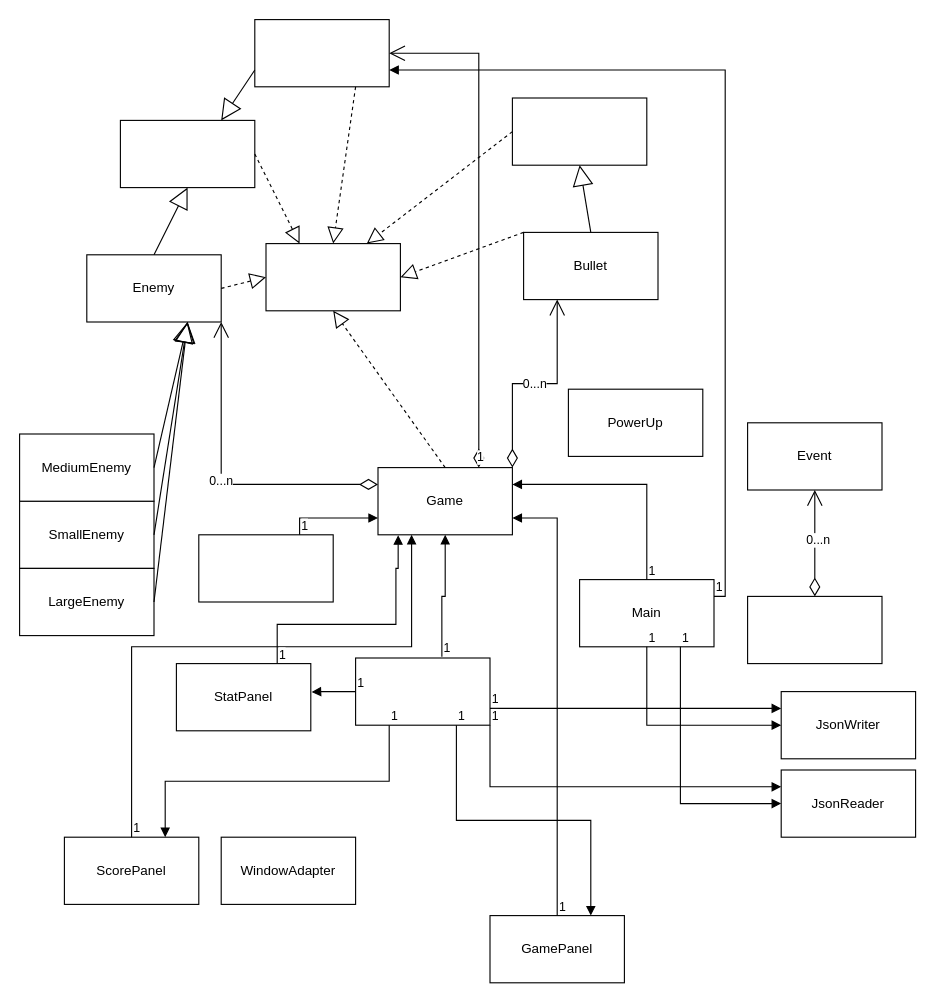
Image size: 935x1002. Some labels were removed from this diagram. The centre of each missing label's shape, as x and y in pixels:
Entity: the point at 187,153
Event Log: the point at 814,629
GUI: the point at 422,691
Interface Writable: the point at 332,276
MouseListener: the point at 265,568
Object: the point at 579,131
Player: the point at 321,52
